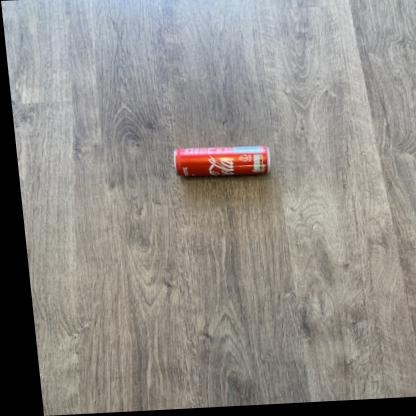trash: (174, 145, 270, 176)
